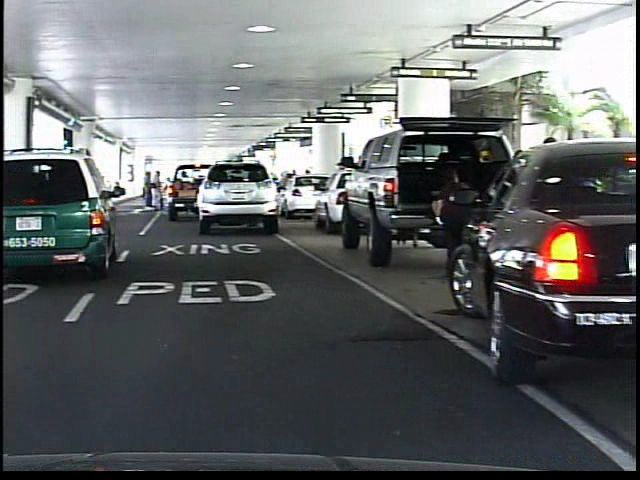person: (426, 158, 480, 274)
